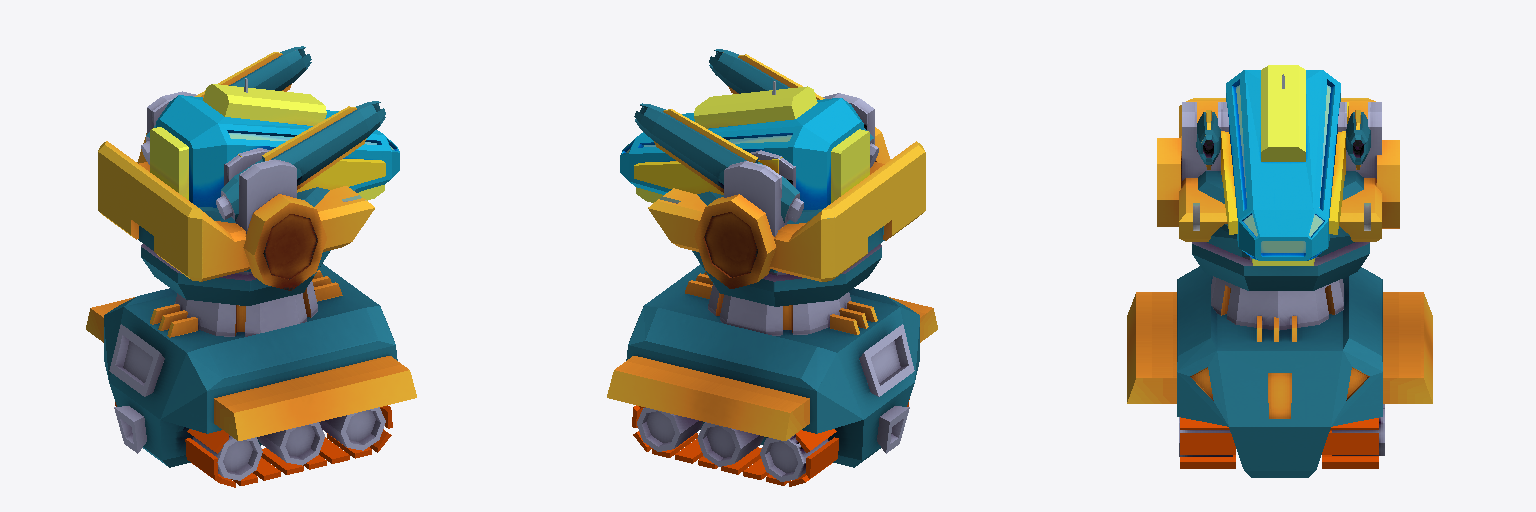
3 renders of one model, left to right at view 1: azimuth 30°, elevation 25°; view 2: azimuth 150°, elevation 25°; view 3: azimuth 270°, elevation 25°, orthographic.
Parts seen in each view (by area): view 1: Object008, Object014, Box009, Box017; view 2: Object008, Object014, Box009, Box016; view 3: Object008, Box016, Box017, Object014, Box009.
Part boxes in pixels (x1,y1,x2,y2): Object008: (86, 84, 416, 467); Object014: (141, 46, 385, 220); Box009: (192, 407, 385, 480); Box017: (185, 405, 392, 487); Object008: (607, 86, 937, 467); Object014: (634, 49, 878, 222); Box009: (637, 407, 828, 481); Box016: (632, 405, 838, 486); Object008: (1127, 65, 1432, 477); Box016: (1322, 418, 1378, 468); Box017: (1180, 417, 1235, 468); Object014: (1196, 110, 1370, 169); Box009: (1179, 404, 1384, 456).
Bounding box in the file's own units: 65.77 × 84.86 × 66.14.
4 materials, 2 textured.